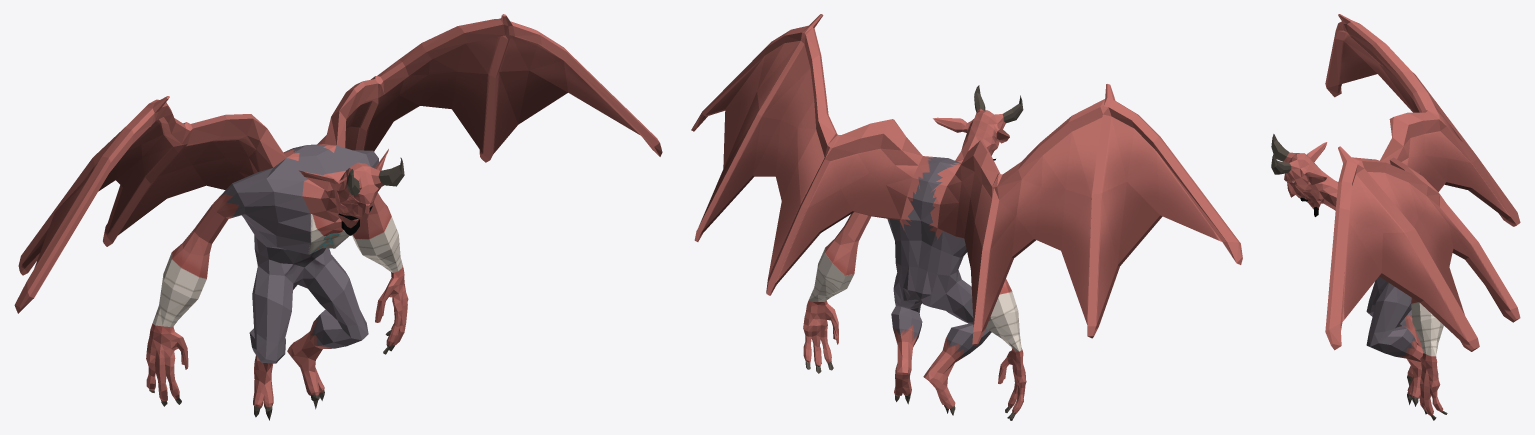
Rendered from boss.fbx.
3 views of the same model, side by side, from view 1: azimuth 30°, elevation 25°; view 2: azimuth 150°, elevation 25°; view 3: azimuth 270°, elevation 25° (orthographic). The views are drawn at different scales.
Parts seen in each view (by area): view 1: Boss; view 2: Boss; view 3: Boss.
Boxes of the visible parts, x1,y1,x2,y2 form: Boss: (14, 14, 662, 420); Boss: (691, 14, 1242, 420); Boss: (1271, 14, 1520, 420).
Size of the model in its own units: 461 by 269 by 192.
